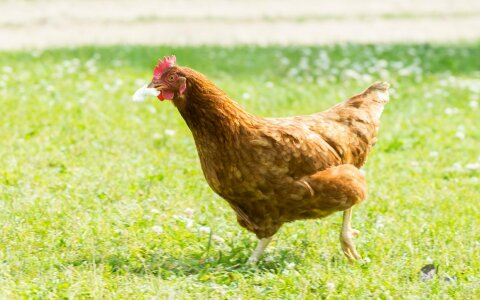chicken: (129, 51, 393, 281)
